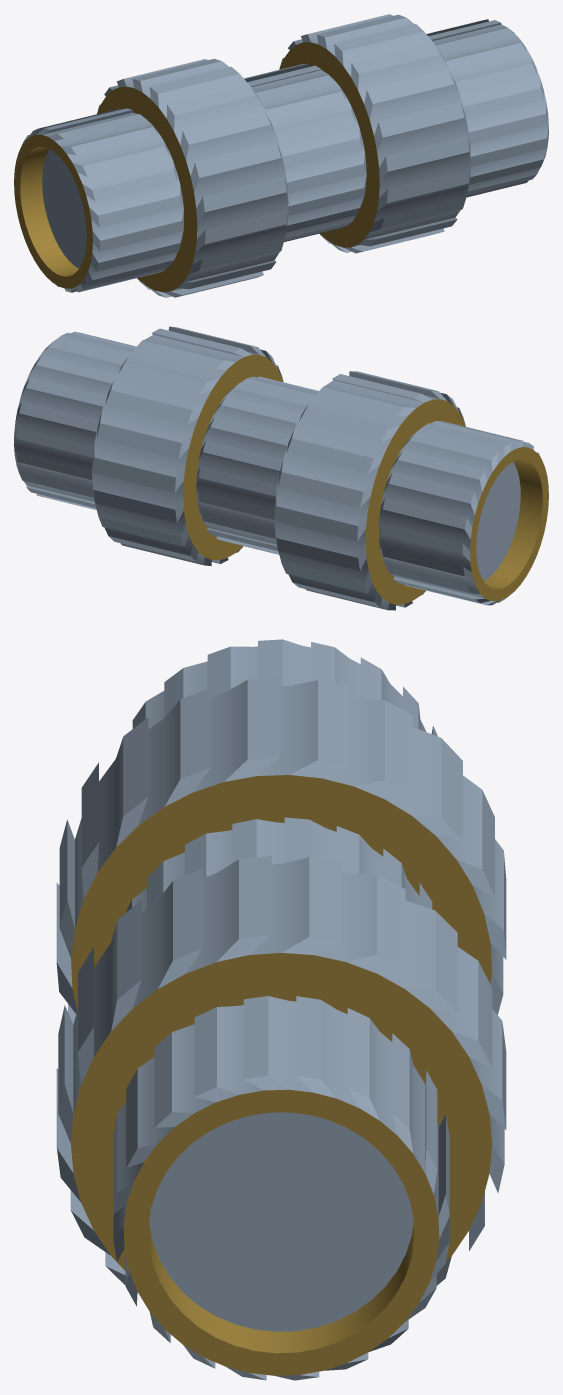
File: Cylinder_008_geometry-panic-factory.fbx
The picture shows the model from 3 angles, top to bottom: view 1: azimuth 30°, elevation 25°; view 2: azimuth 150°, elevation 25°; view 3: azimuth 270°, elevation 25°; orthographic projection. The views are drawn at different scales.
Parts seen in each view (by area): view 1: Cylinder.008.geometry-panic-factory; view 2: Cylinder.008.geometry-panic-factory; view 3: Cylinder.008.geometry-panic-factory.
Boxes of the visible parts, bbox=[...] form: Cylinder.008.geometry-panic-factory: bbox=[14, 14, 548, 297]; Cylinder.008.geometry-panic-factory: bbox=[14, 326, 548, 610]; Cylinder.008.geometry-panic-factory: bbox=[56, 639, 506, 1380].
Size of the model in its own units: 2.34 by 0.9999 by 0.9999.
